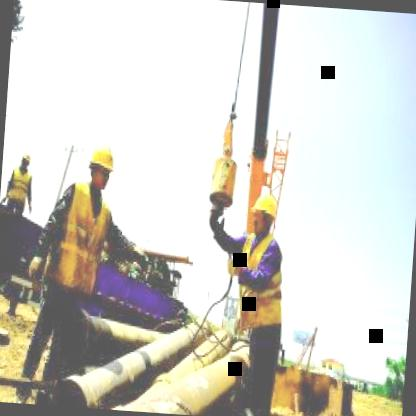helmet: (84, 139, 118, 196), (247, 190, 278, 240), (18, 150, 34, 176)
